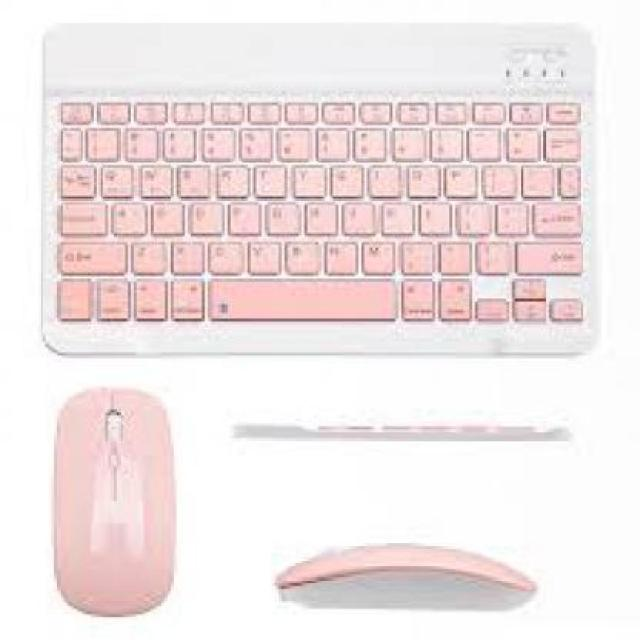keyboard: (37, 15, 597, 357)
